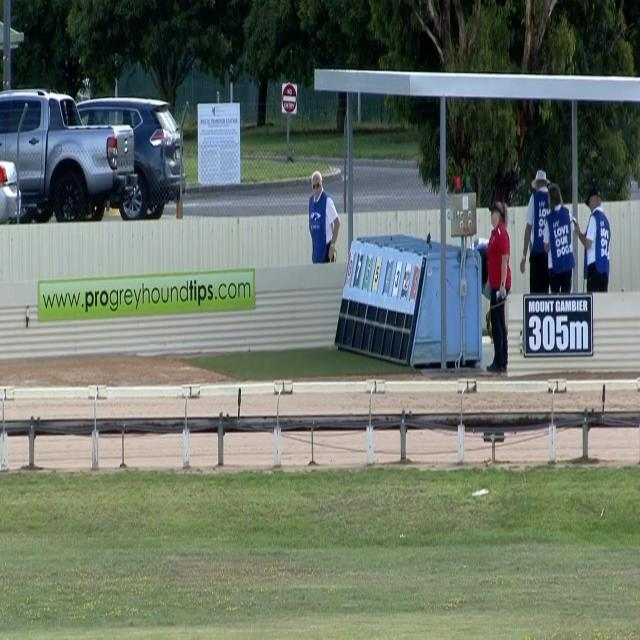rail: (0, 412, 639, 436)
